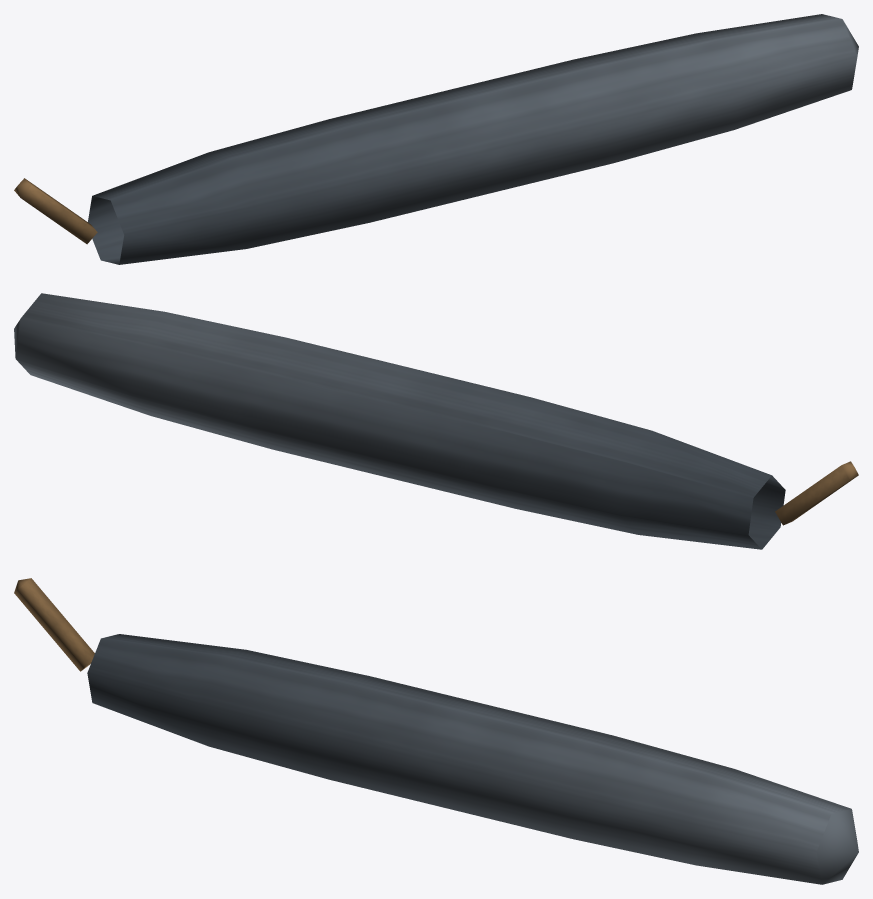
The model's file is whetstone.glb.
The picture shows the model from 3 angles, top to bottom: view 1: azimuth 30°, elevation 25°; view 2: azimuth 150°, elevation 25°; view 3: azimuth 330°, elevation 25°; orthographic projection.
Visible parts, largest first — view 1: whetstone; view 2: whetstone; view 3: whetstone.
Part boxes in pixels (x1,y1,x2,y2): whetstone: [14, 14, 858, 264]; whetstone: [14, 293, 858, 549]; whetstone: [14, 578, 858, 884].
Size of the model in its own units: 0.2532 by 0.0343 by 0.029.
Materials: 1 (1 with a texture image).
